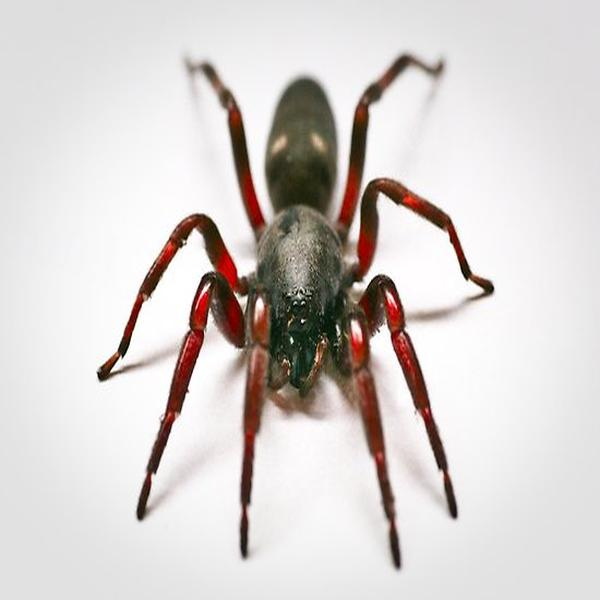White-Tailed_Spider: (97, 52, 493, 568)
